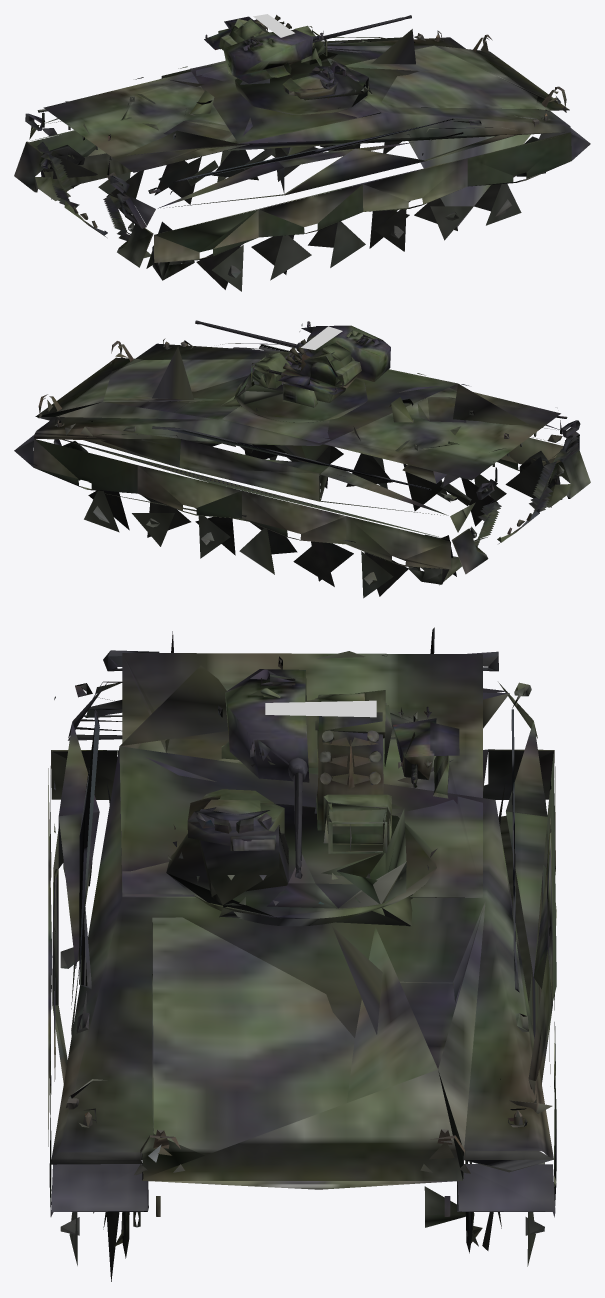
Rendered from marder_lo.glb.
3 renders of one model, top to bottom at view 1: azimuth 30°, elevation 25°; view 2: azimuth 150°, elevation 25°; view 3: azimuth 270°, elevation 25°, orthographic. The views are drawn at different scales.
Visible parts, largest first — view 1: g_marder_hull, g_marder_turret, g_marder_gun; view 2: g_marder_hull, g_marder_turret, g_marder_gun; view 3: g_marder_hull, g_marder_turret, g_marder_gun.
Part boxes in pixels (x1=…): g_marder_hull: x1=14, y1=29, x2=590, y2=291; g_marder_turret: x1=204, y1=14, x2=365, y2=108; g_marder_gun: x1=313, y1=15, x2=411, y2=42; g_marder_hull: x1=14, y1=338, x2=590, y2=598; g_marder_turret: x1=240, y1=321, x2=390, y2=412; g_marder_gun: x1=195, y1=320, x2=304, y2=350; g_marder_hull: x1=48, y1=627, x2=556, y2=1281; g_marder_turret: x1=168, y1=669, x2=459, y2=905; g_marder_gun: x1=288, y1=757, x2=308, y2=878.
Bounding box in the file's own units: 6.84 × 2.92 × 3.3.
4 materials, 3 textured.
